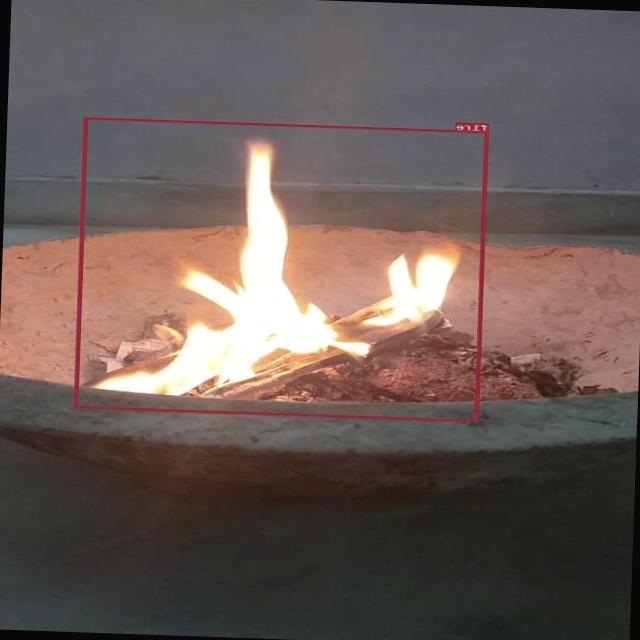fire: (75, 116, 489, 422)
